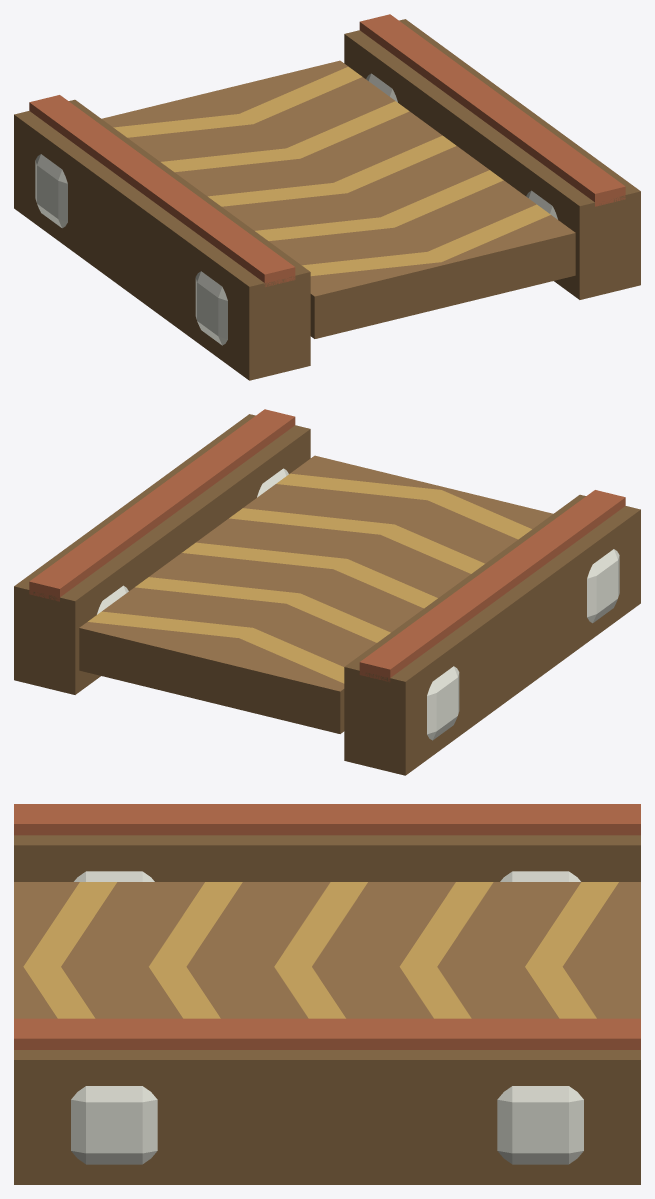
File: belt.glb
3 views of the same model, one above another, from view 1: azimuth 30°, elevation 25°; view 2: azimuth 150°, elevation 25°; view 3: azimuth 270°, elevation 25° (orthographic). The views are drawn at different scales.
Visible parts, largest first — view 1: Timber_continuous_side_rail, Deck_flush_forward_chevron, Timber_continuous_side_rail.001, Deck_flush_forward_chevron.004, Deck_flush_forward_chevron.001, Deck_flush_forward_chevron.002, Deck_flush_forward_chevron.003, Copper_rail_inlay.001, Copper_rail_inlay, Ceramic_roller_bearing.001, Ceramic_roller_bearing; view 2: Timber_continuous_side_rail, Deck_flush_forward_chevron.004, Timber_continuous_side_rail.001, Deck_flush_forward_chevron, Deck_flush_forward_chevron.001, Deck_flush_forward_chevron.002, Deck_flush_forward_chevron.003, Copper_rail_inlay.001, Copper_rail_inlay, Ceramic_roller_bearing, Ceramic_roller_bearing.001; view 3: Timber_continuous_side_rail.001, Timber_continuous_side_rail, Copper_rail_inlay, Copper_rail_inlay.001, Deck_flush_forward_chevron.002, Deck_flush_forward_chevron, Deck_flush_forward_chevron.001, Deck_flush_forward_chevron.003, Deck_flush_forward_chevron.004, Ceramic_roller_bearing.002, Ceramic_roller_bearing.003, Ceramic_roller_bearing (+1 smaller).
Boxes of the visible parts, x1,y1,x2,y2 form: Timber_continuous_side_rail: (14,99,310,380); Deck_flush_forward_chevron: (290,198,575,338); Timber_continuous_side_rail.001: (344,19,640,299); Deck_flush_forward_chevron.004: (101,60,386,153); Deck_flush_forward_chevron.001: (243,164,528,256); Deck_flush_forward_chevron.002: (196,129,480,221); Deck_flush_forward_chevron.003: (149,95,433,187); Copper_rail_inlay.001: (359,14,625,206); Copper_rail_inlay: (29,95,295,286); Ceramic_roller_bearing.001: (35,154,67,228); Ceramic_roller_bearing: (195,271,227,345); Timber_continuous_side_rail: (344,494,640,775); Deck_flush_forward_chevron.004: (79,593,364,733); Timber_continuous_side_rail.001: (14,414,310,694); Deck_flush_forward_chevron: (268,455,553,548); Deck_flush_forward_chevron.001: (221,490,505,582); Deck_flush_forward_chevron.002: (174,524,458,616); Deck_flush_forward_chevron.003: (126,559,411,651); Copper_rail_inlay.001: (29,409,295,601); Copper_rail_inlay: (359,490,625,682); Ceramic_roller_bearing: (587,549,619,623); Ceramic_roller_bearing.001: (427,666,459,740); Timber_continuous_side_rail.001: (14,1050,640,1184); Timber_continuous_side_rail: (14,835,640,881); Copper_rail_inlay: (14,804,640,835); Copper_rail_inlay.001: (14,1018,640,1049); Deck_flush_forward_chevron.002: (264,882,390,1018); Deck_flush_forward_chevron: (14,882,139,1018); Deck_flush_forward_chevron.001: (139,882,264,1018); Deck_flush_forward_chevron.003: (390,882,515,1018); Deck_flush_forward_chevron.004: (515,882,640,1018); Ceramic_roller_bearing.002: (71,1086,157,1164); Ceramic_roller_bearing.003: (497,1086,583,1164); Ceramic_roller_bearing: (74,871,154,881).
Size of the model in its own units: 0.98 by 0.24 by 1.
